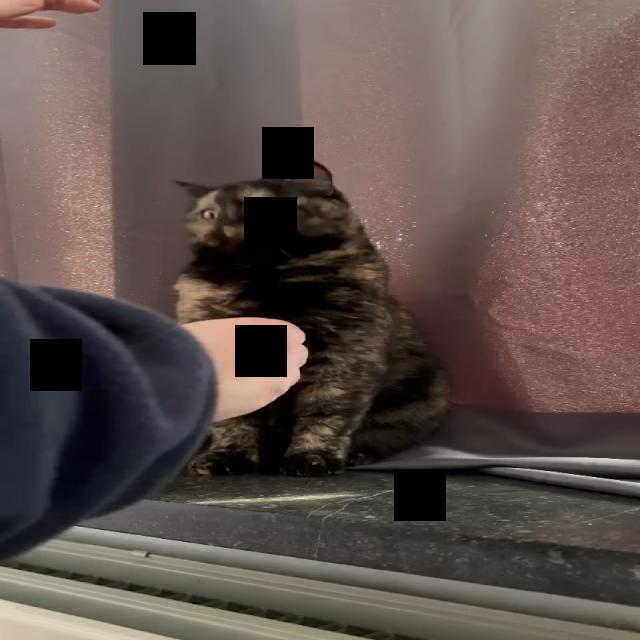authorized: (169, 158, 451, 477)
